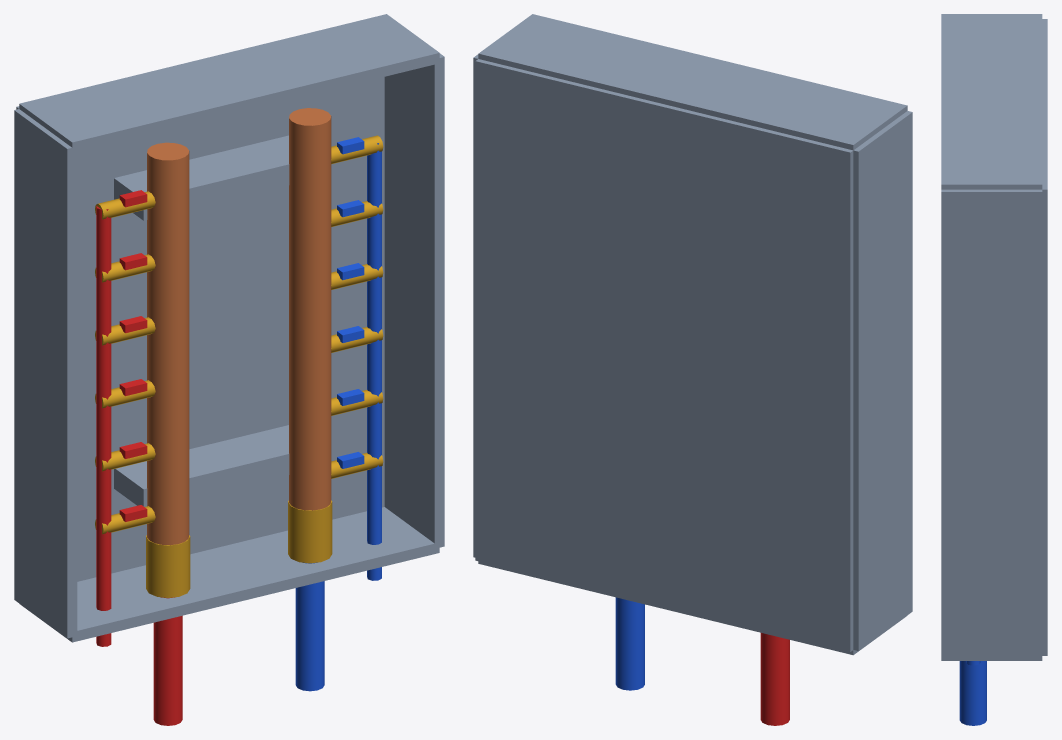
Rendered from copper-distribution-header.glb.
3 renders of one model, left to right at view 1: azimuth 30°, elevation 25°; view 2: azimuth 150°, elevation 25°; view 3: azimuth 270°, elevation 25°, orthographic. The views are drawn at different scales.
Parts seen in each view (by area): view 1: plumbing-manifold-copper-header-open-manifold; view 2: plumbing-manifold-copper-header-open-manifold; view 3: plumbing-manifold-copper-header-open-manifold.
Boxes of the visible parts, box(x1,y1,x2,y2) form: plumbing-manifold-copper-header-open-manifold: box(14, 14, 444, 725); plumbing-manifold-copper-header-open-manifold: box(473, 14, 912, 725); plumbing-manifold-copper-header-open-manifold: box(941, 14, 1047, 725).
Bounding box in the file's own units: 0.452 × 0.706 × 0.116.
